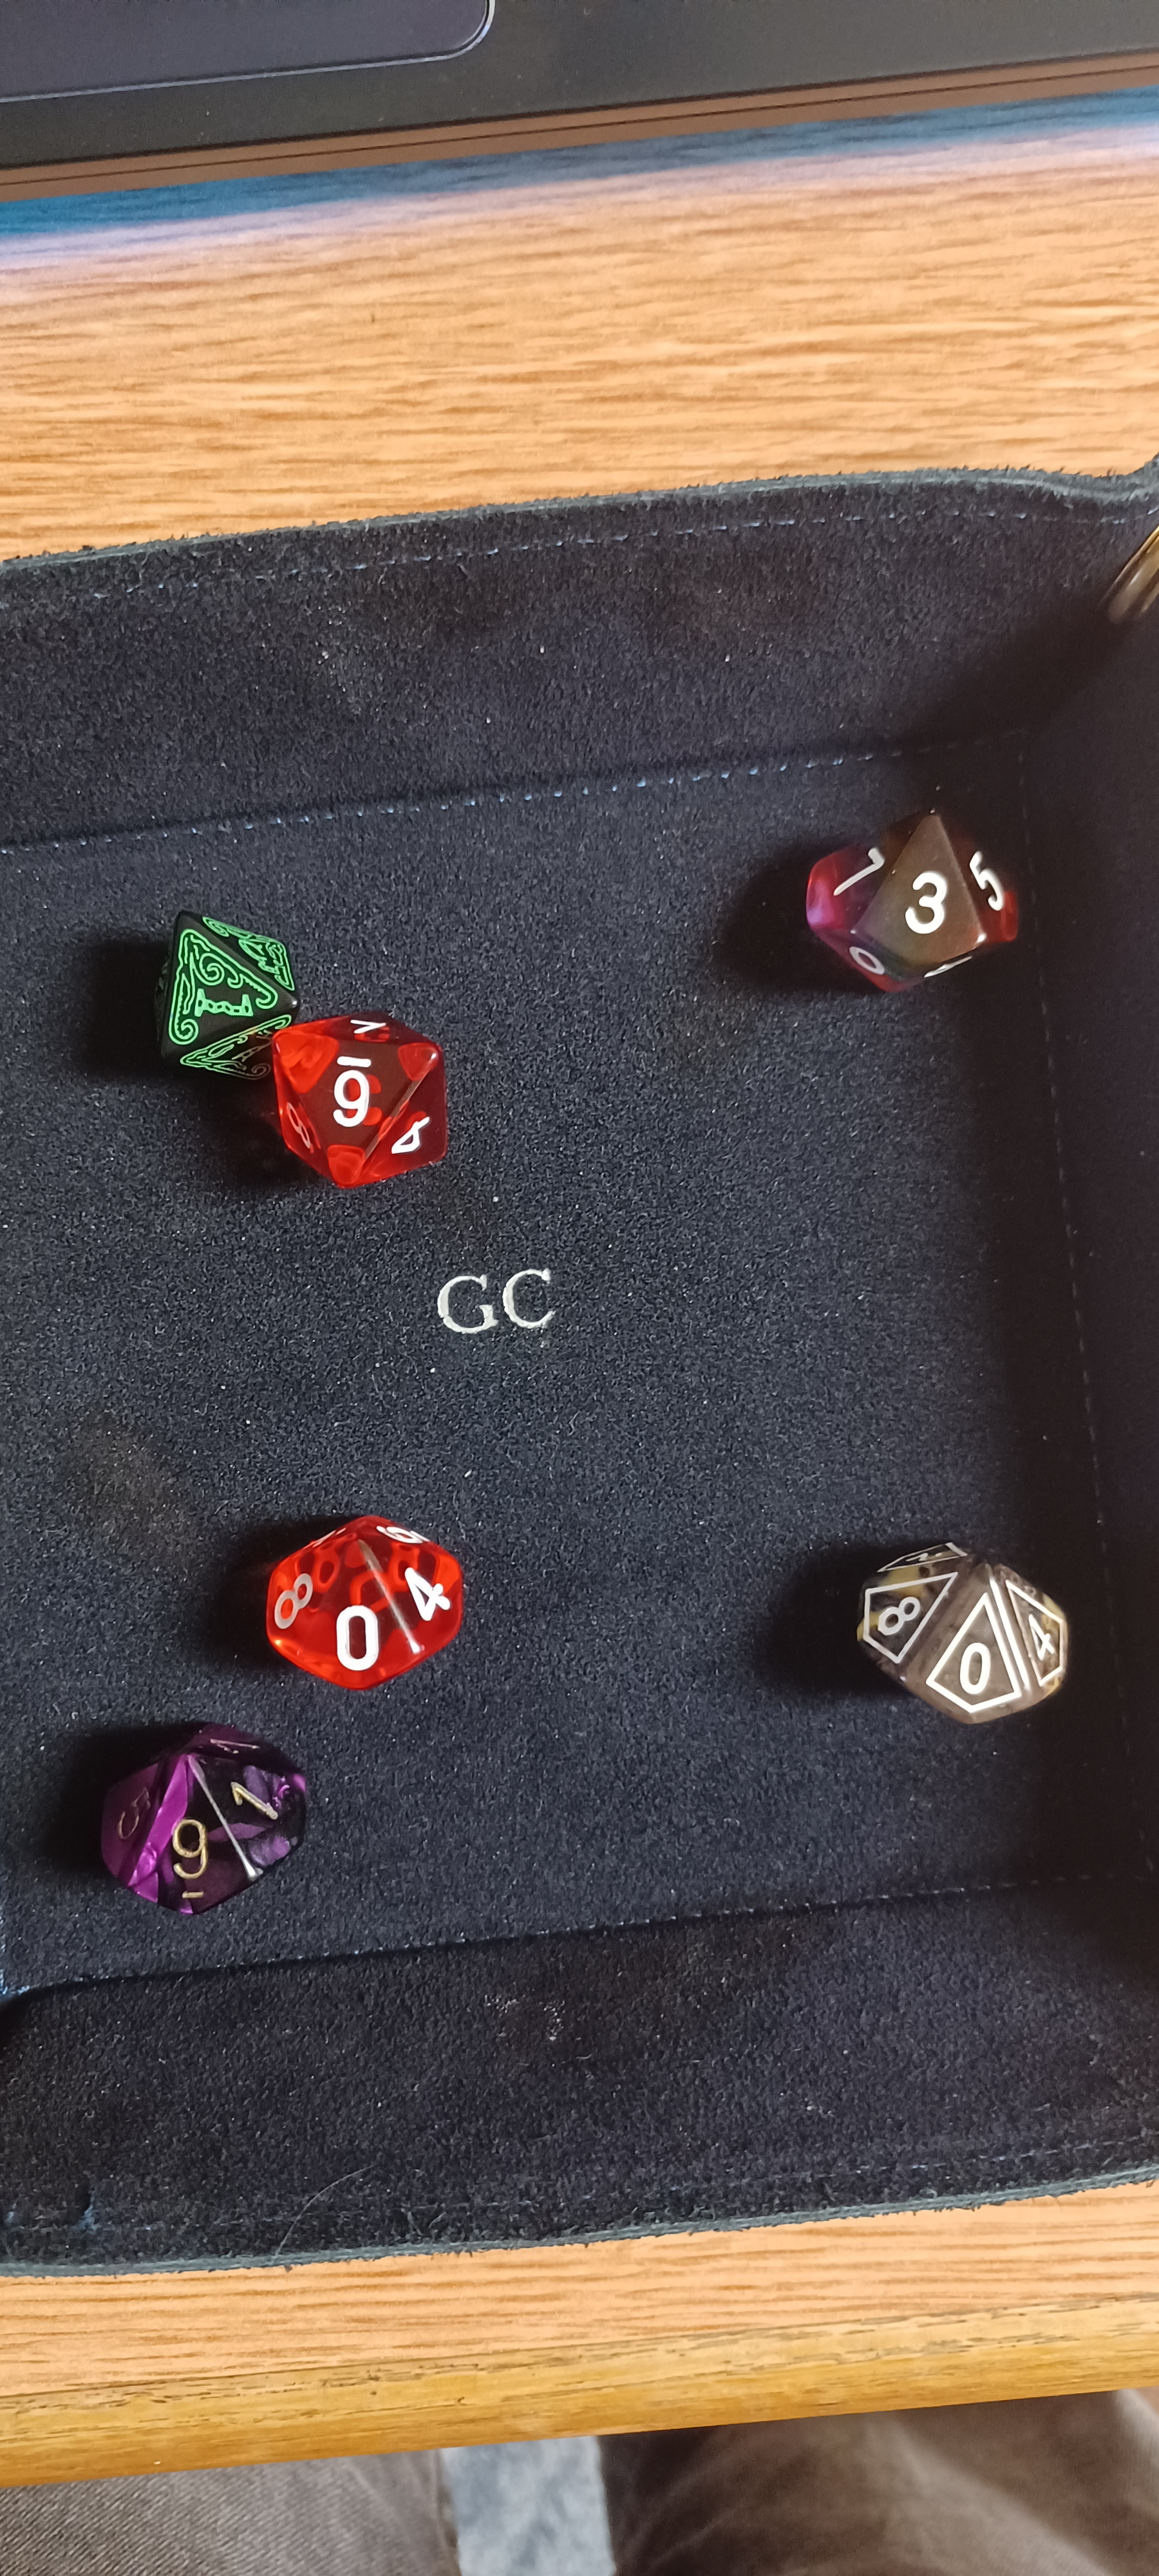nine: (69, 1710, 371, 1948)
one: (133, 890, 312, 1086)
six: (248, 994, 488, 1214)
three: (768, 772, 1075, 1027)
zero: (816, 1492, 1106, 1755), (213, 1479, 502, 1722)
